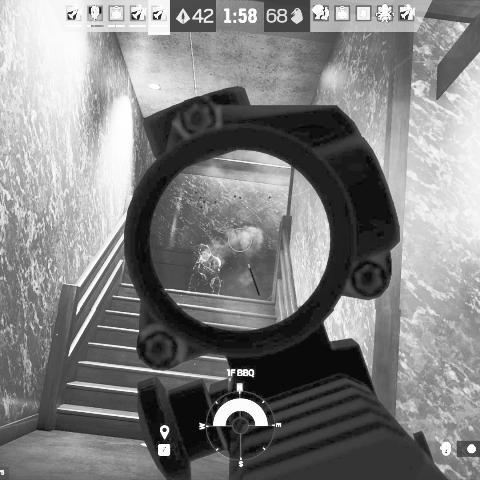Character: (189, 242, 224, 297)
Head: (198, 244, 210, 258)
